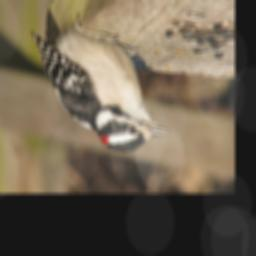Woodpecker: (29, 13, 174, 152)
